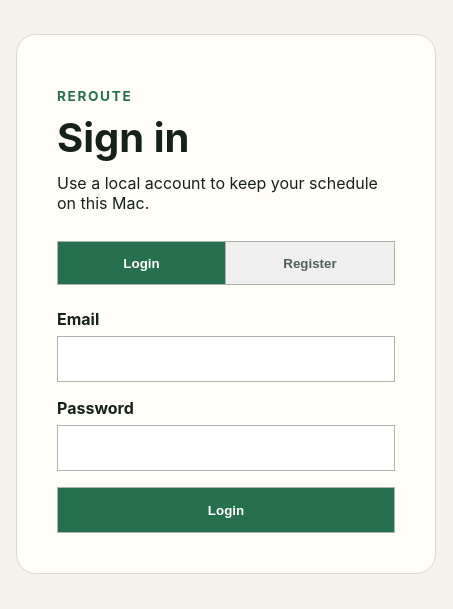
Test: shows an incorrect password message
Type "adam@example.com" into the field labelled "Email" at (226, 359), box [57,336,395,382]
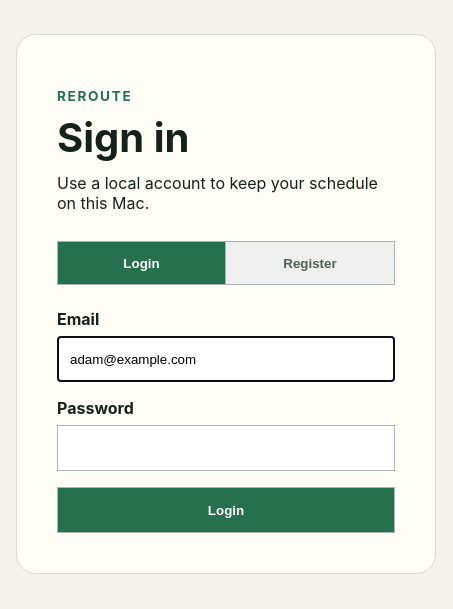
Type "wrong password" into the password field labelled "Password" at (226, 448), box [57,425,395,471]
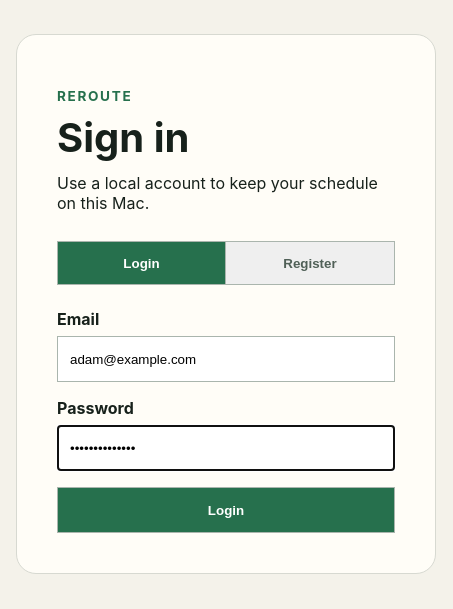
Click the button "Login" below "Password" at (226, 510), box [57,487,395,533]
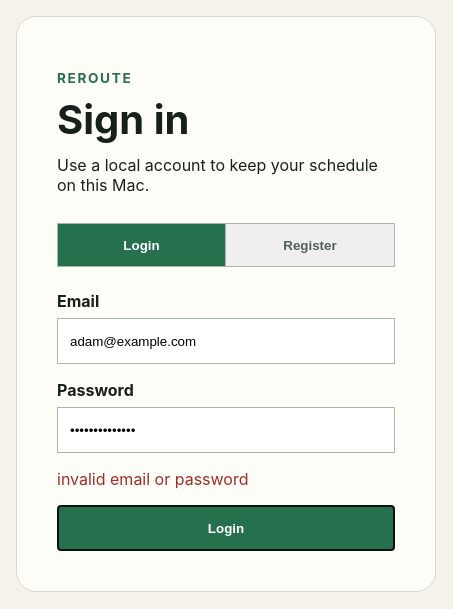
Expected: the message reads "invalid email or password", [57,469,248,489]
